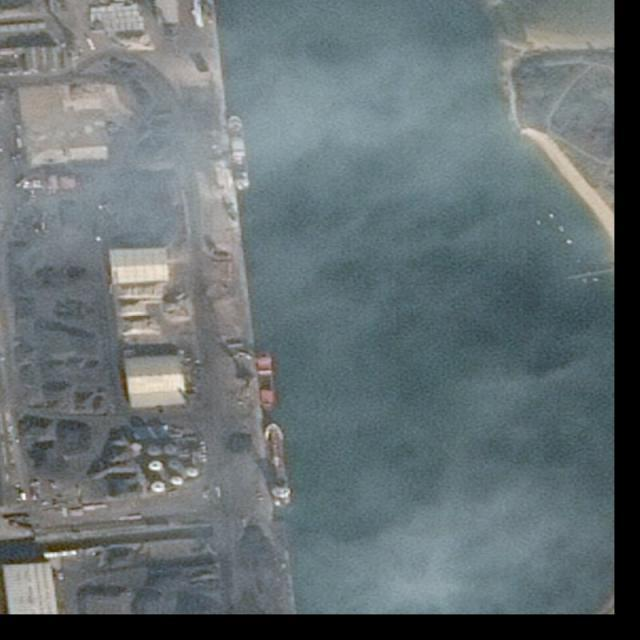ship: (266, 424, 290, 506), (230, 115, 249, 189), (257, 353, 272, 410), (557, 223, 567, 234), (534, 218, 544, 228), (566, 238, 577, 245), (549, 213, 556, 220)
